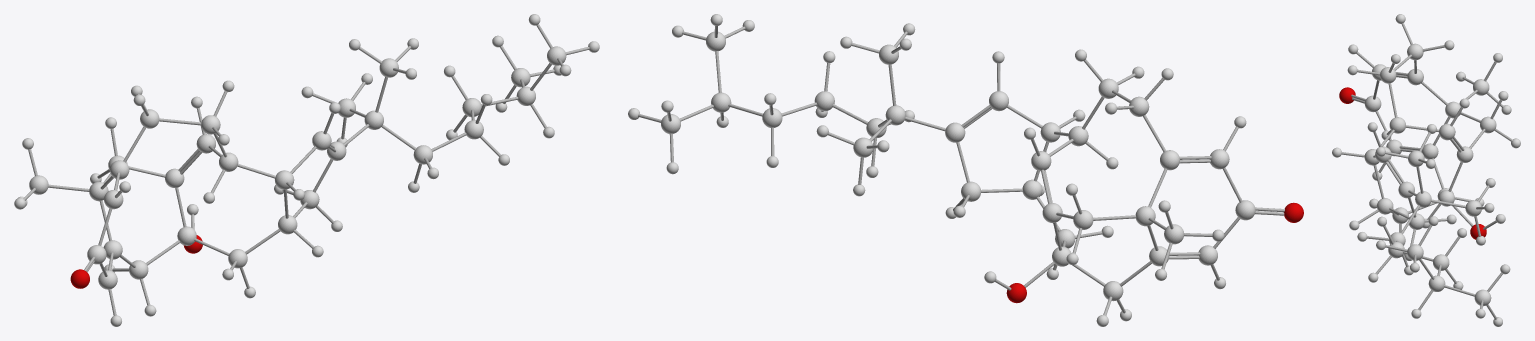
File: CC_C_CCCC_C__C_C1_CC2C3CCC4_CC__O_C_C5C4_C_CC__C3_C_O__C5_CC2C1.glb
The picture shows the model from 3 angles, left to right: view 1: azimuth 30°, elevation 25°; view 2: azimuth 150°, elevation 25°; view 3: azimuth 270°, elevation 25°; orthographic projection. The views are drawn at different scales.
Visible parts, largest first — view 1: world; view 2: world; view 3: world.
Boxes of the visible parts, x1,y1,x2,y2 form: world: [14, 14, 599, 326]; world: [628, 14, 1303, 326]; world: [1332, 14, 1520, 326].
Size of the model in its own units: 16.93 by 6.75 by 5.69.
